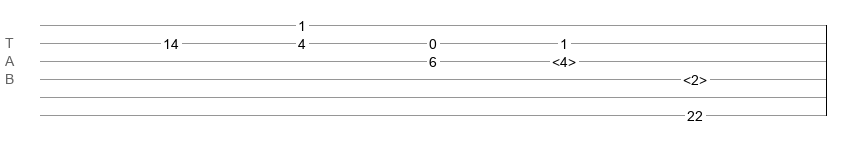0: (429, 36, 437, 46)
1: (298, 18, 306, 28), (560, 36, 568, 46)
14: (163, 36, 179, 46)
22: (687, 108, 703, 118)
4: (298, 36, 306, 46)
6: (429, 54, 437, 64)
harmonic: (552, 54, 576, 64), (683, 72, 707, 82)
